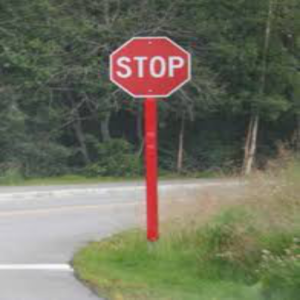STOP_SIGN: (109, 36, 191, 96)
